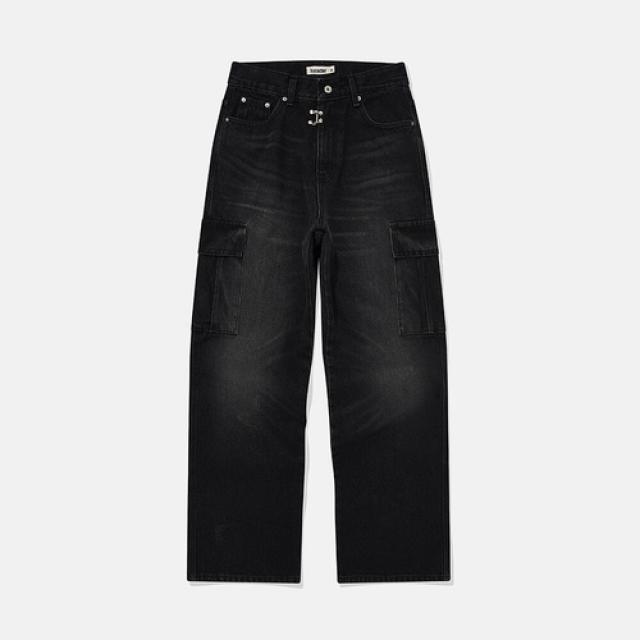Blouse_deep: (185, 59, 451, 580)
